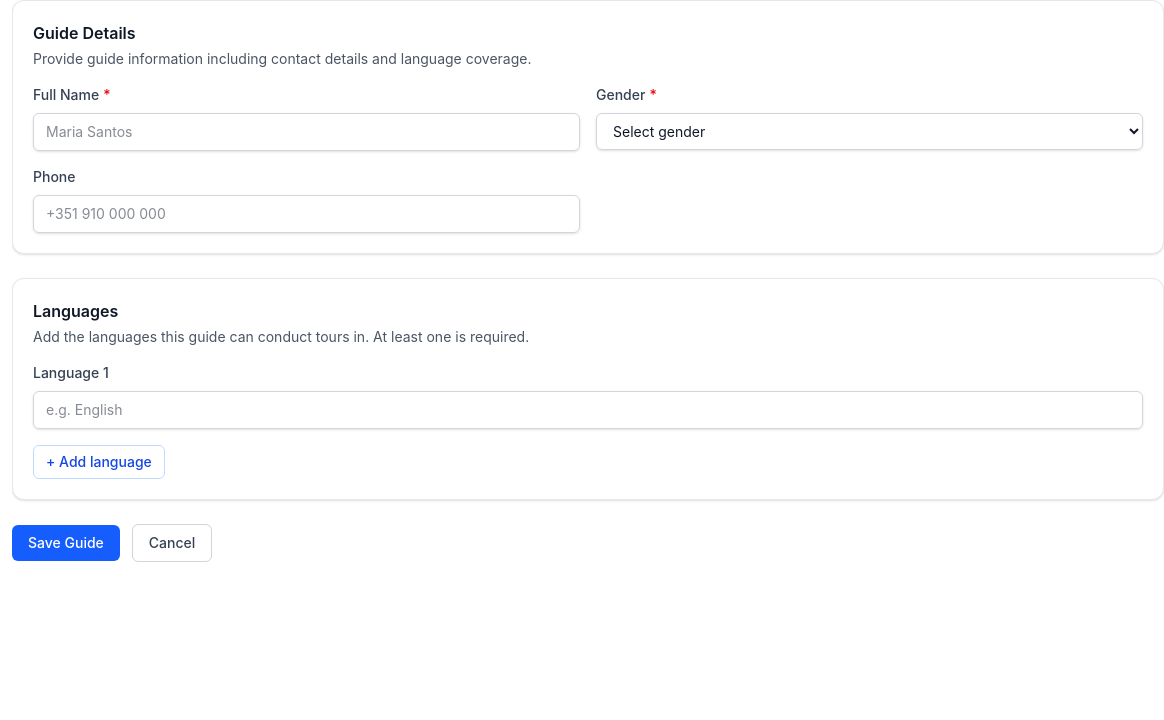
Test: GuideForm › shows validation errors and blocks submit when required fields are missing
The width and height of the screenshot is (1164, 720).
Click the button "Save Guide" at (66, 543), box left=12, top=525, right=120, bottom=561
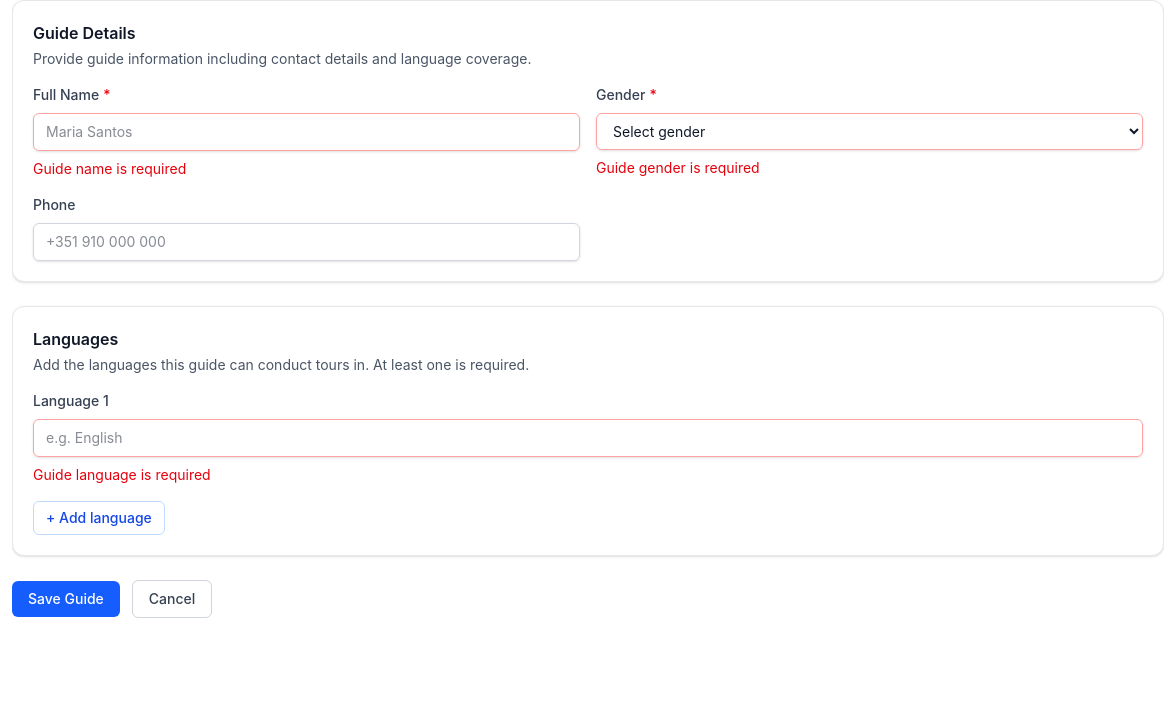
Check: the text "Guide name is required" is shown, box left=33, top=160, right=186, bottom=177
Check: the text "Guide gender is required" is shown, box left=596, top=159, right=760, bottom=176
Check: the text "Guide language is required" is shown, box left=33, top=466, right=211, bottom=483
